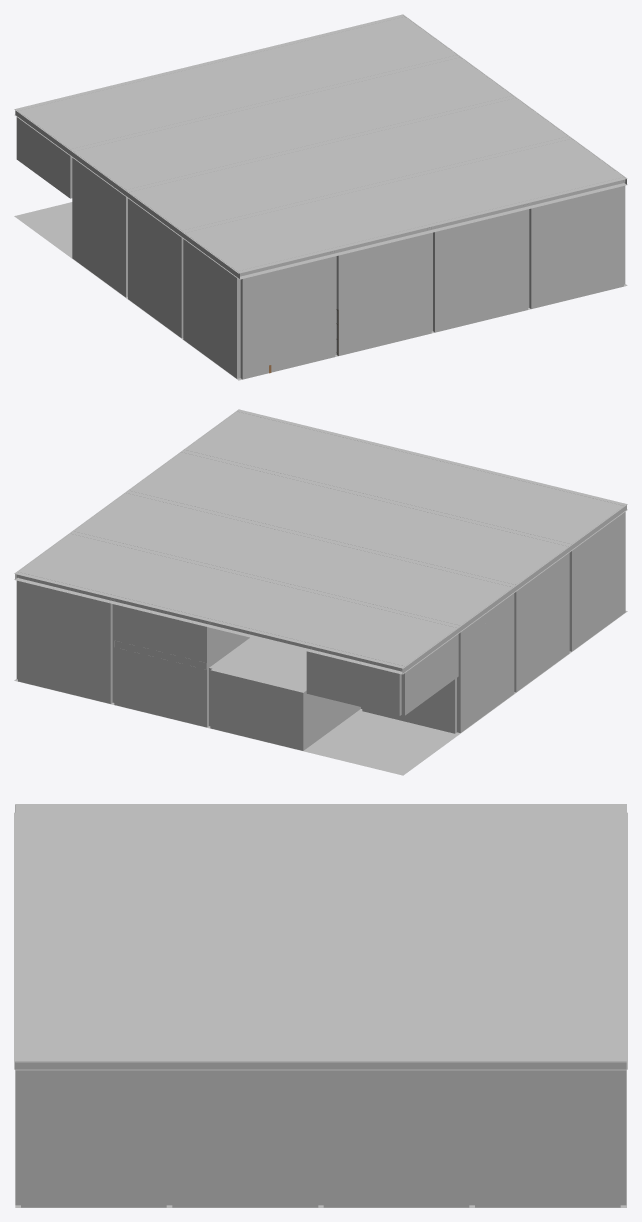
File: garage.fbx
The picture shows the model from 3 angles, top to bottom: view 1: azimuth 30°, elevation 25°; view 2: azimuth 150°, elevation 25°; view 3: azimuth 270°, elevation 25°; orthographic projection. The views are drawn at different scales.
Parts seen in each view (by area): view 1: roof, wall, floor; view 2: roof, wall, floor; view 3: roof, wall, floor.
Part boxes in pixels (left/top/right/bottom): roof: left=14, top=14, right=627, bottom=279; wall: left=16, top=117, right=625, bottom=379; floor: left=14, top=202, right=627, bottom=380; roof: left=14, top=409, right=627, bottom=674; wall: left=16, top=512, right=625, bottom=750; floor: left=14, top=611, right=627, bottom=775; roof: left=14, top=804, right=627, bottom=1070; wall: left=15, top=1070, right=626, bottom=1207; floor: left=15, top=1070, right=626, bottom=1207.
Bounding box in the file's own units: 413 × 109 × 415.
